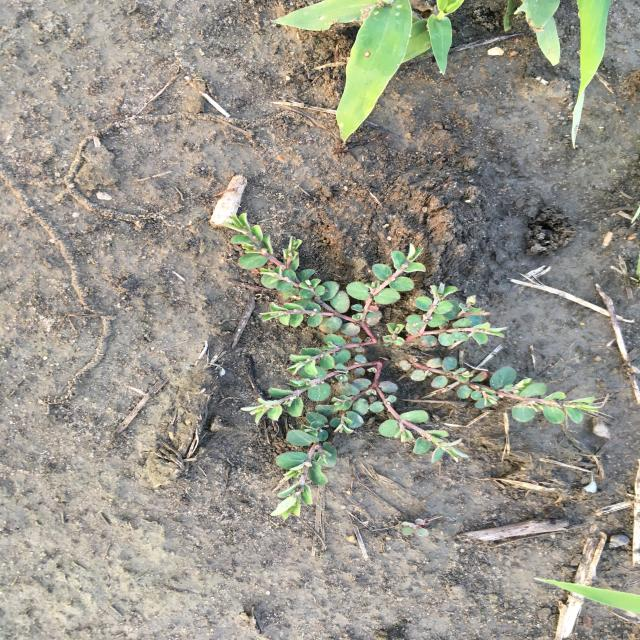SpottedSpurge: (217, 210, 616, 522)
